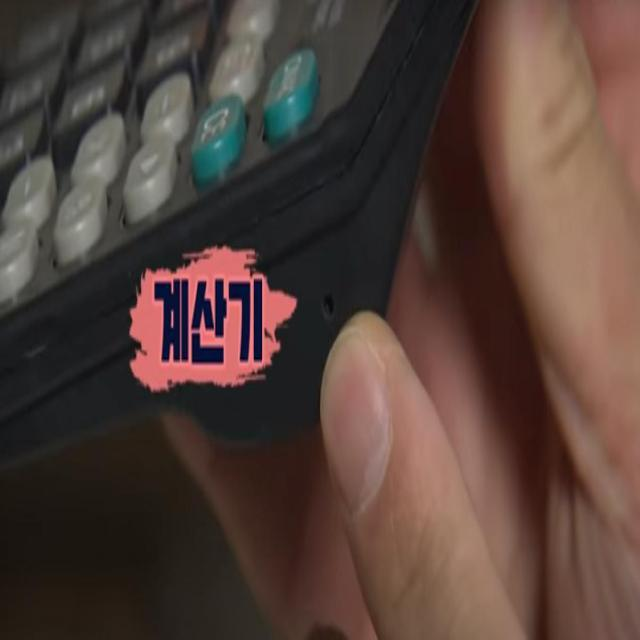hidden camera: (323, 295, 336, 322)
